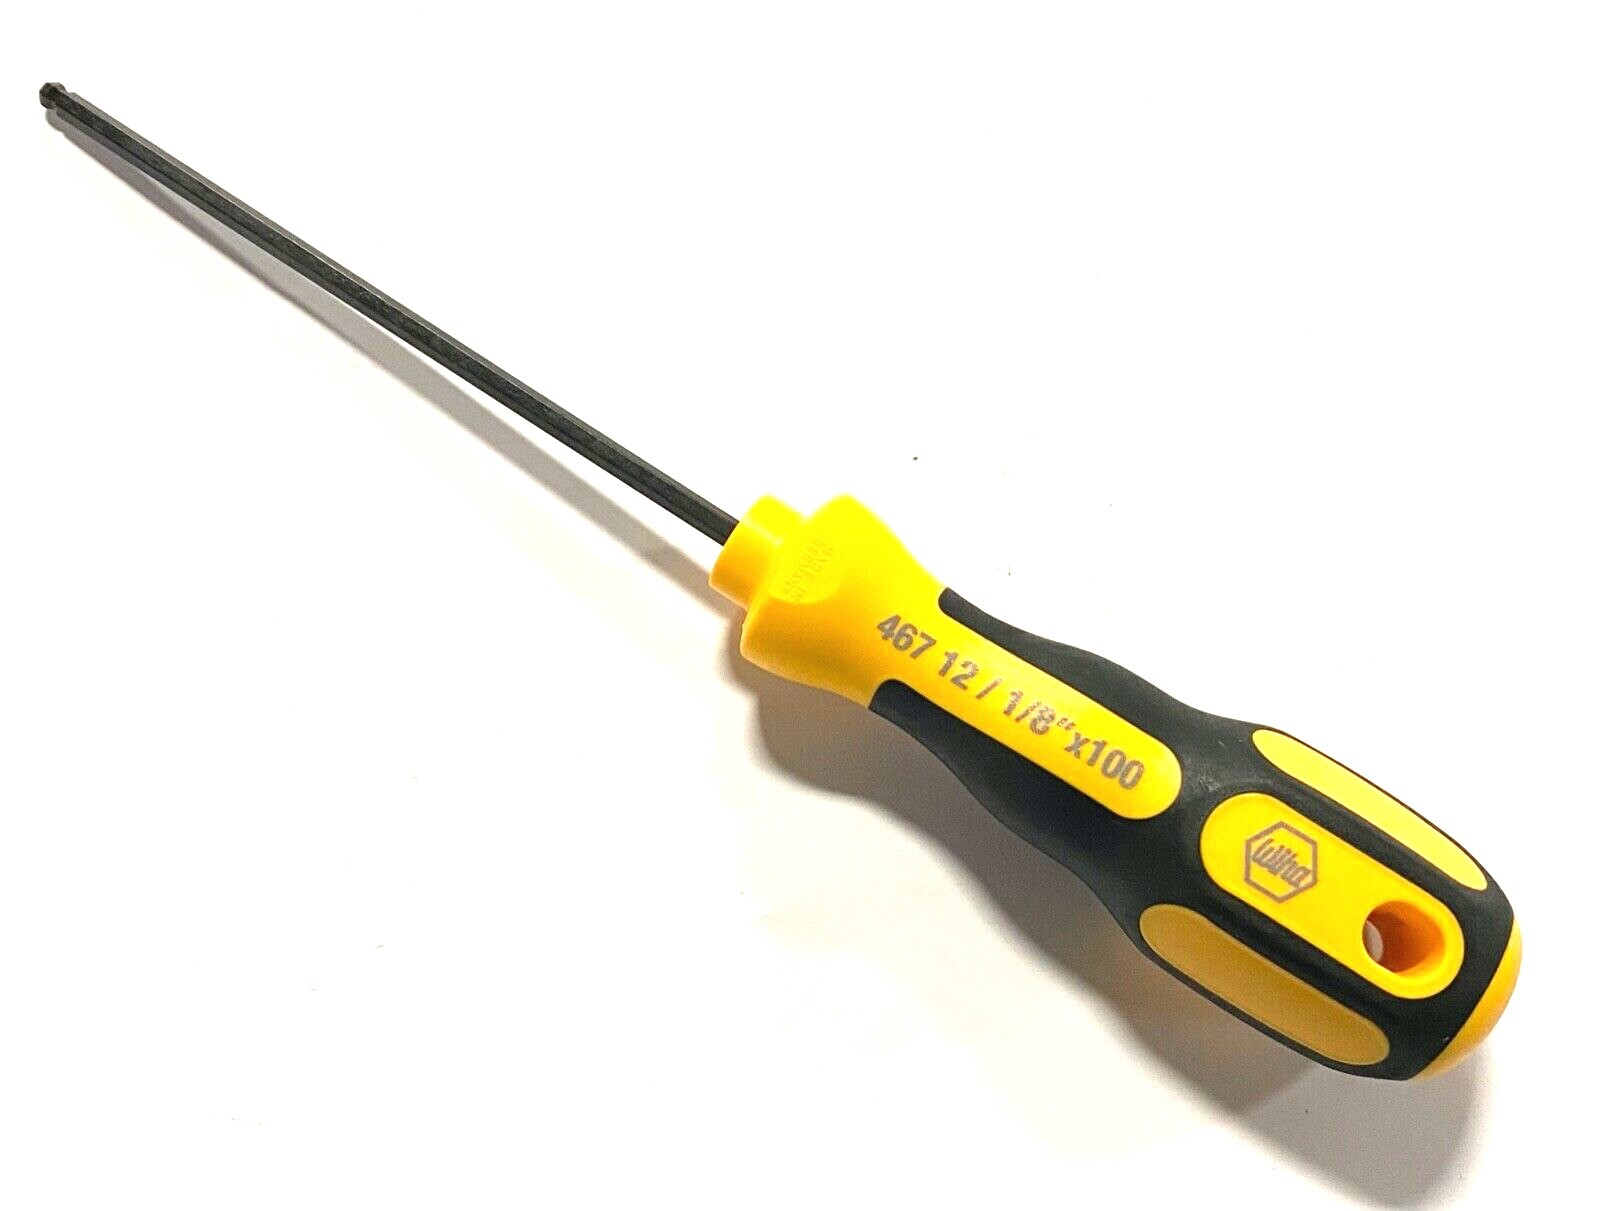screwdriver: (36, 76, 1528, 1099)
